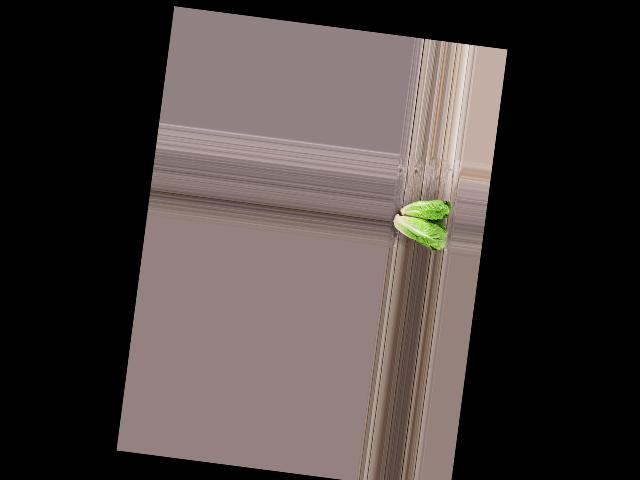lettuce: (387, 213, 450, 253)
